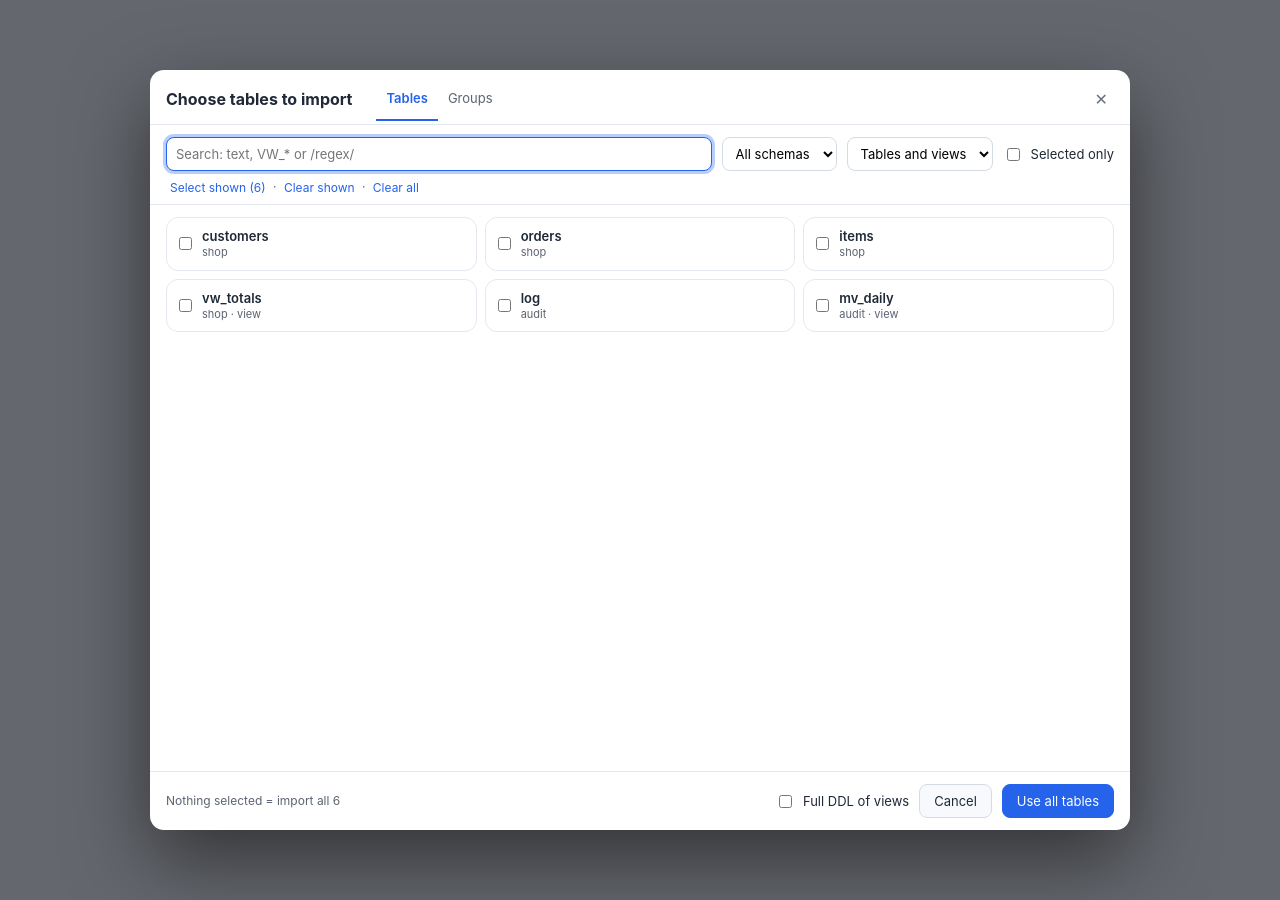
Test: TablePicker import selection › Select shown honours the search, Clear all empties
Step 1. Type "shop." into the field with placeholder "Search: text, VW_* or /regex/" → (439,154), box x1=166 y1=137 x2=712 y2=171
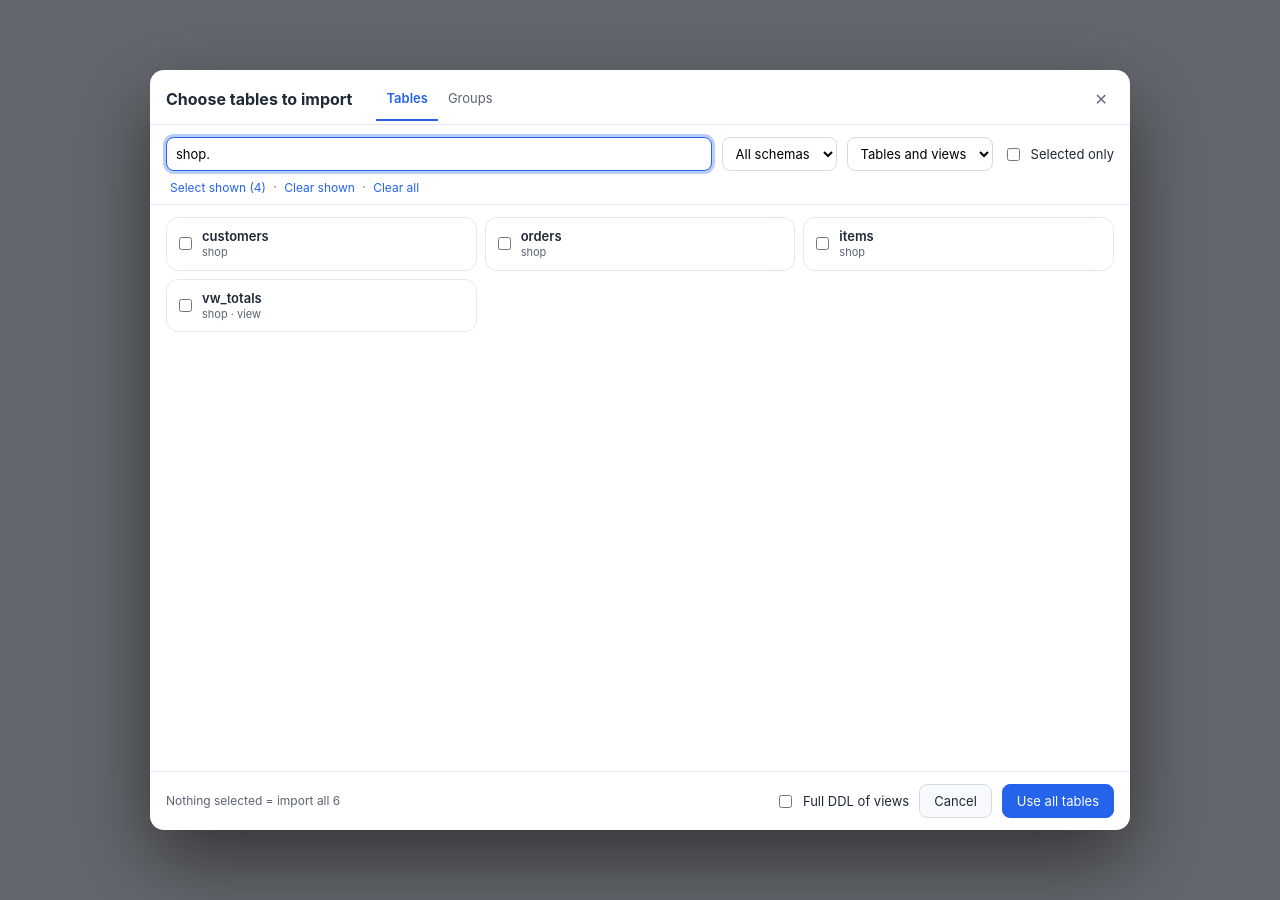
Step 2. Click the button "Select shown (4)" → (218,188), box x1=166 y1=176 x2=270 y2=200
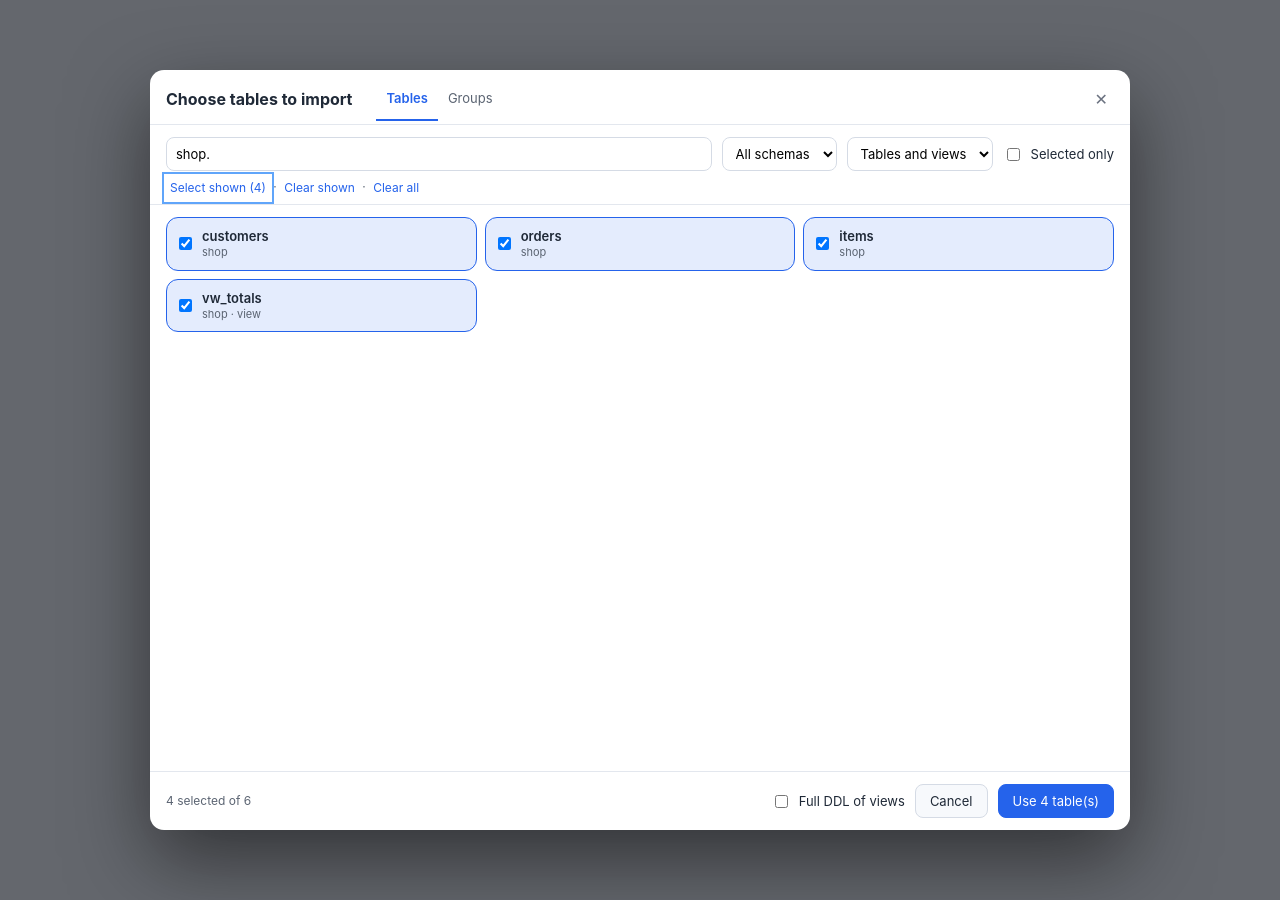
Check: the text with class "hint" reads "4 selected of 6", box x1=166 y1=793 x2=251 y2=808
Step 3. Click the button "Clear all" → (396,188), box x1=369 y1=176 x2=423 y2=200
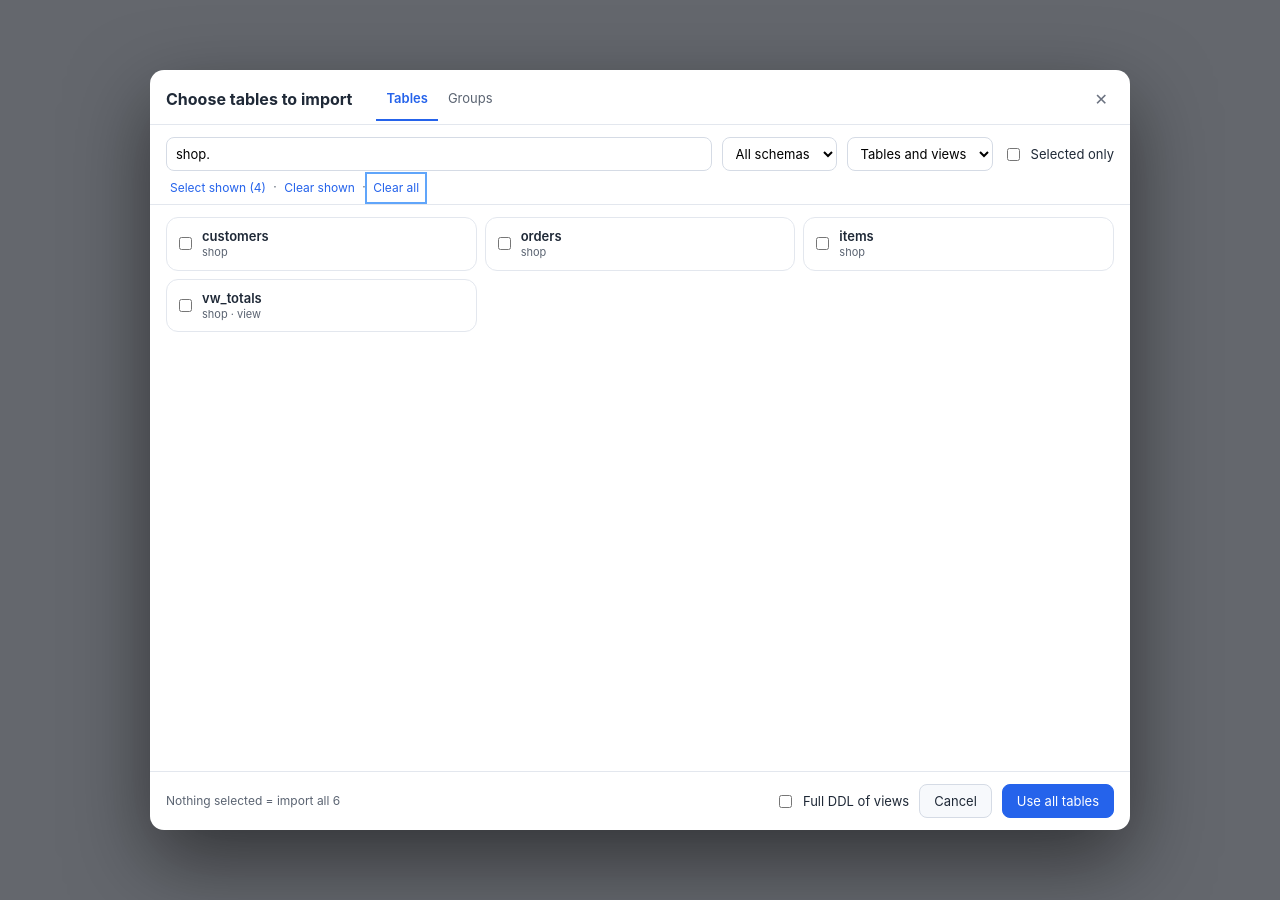
Check: the text with class "hint" reads "Nothing selected = import all 6", box x1=166 y1=793 x2=340 y2=808
